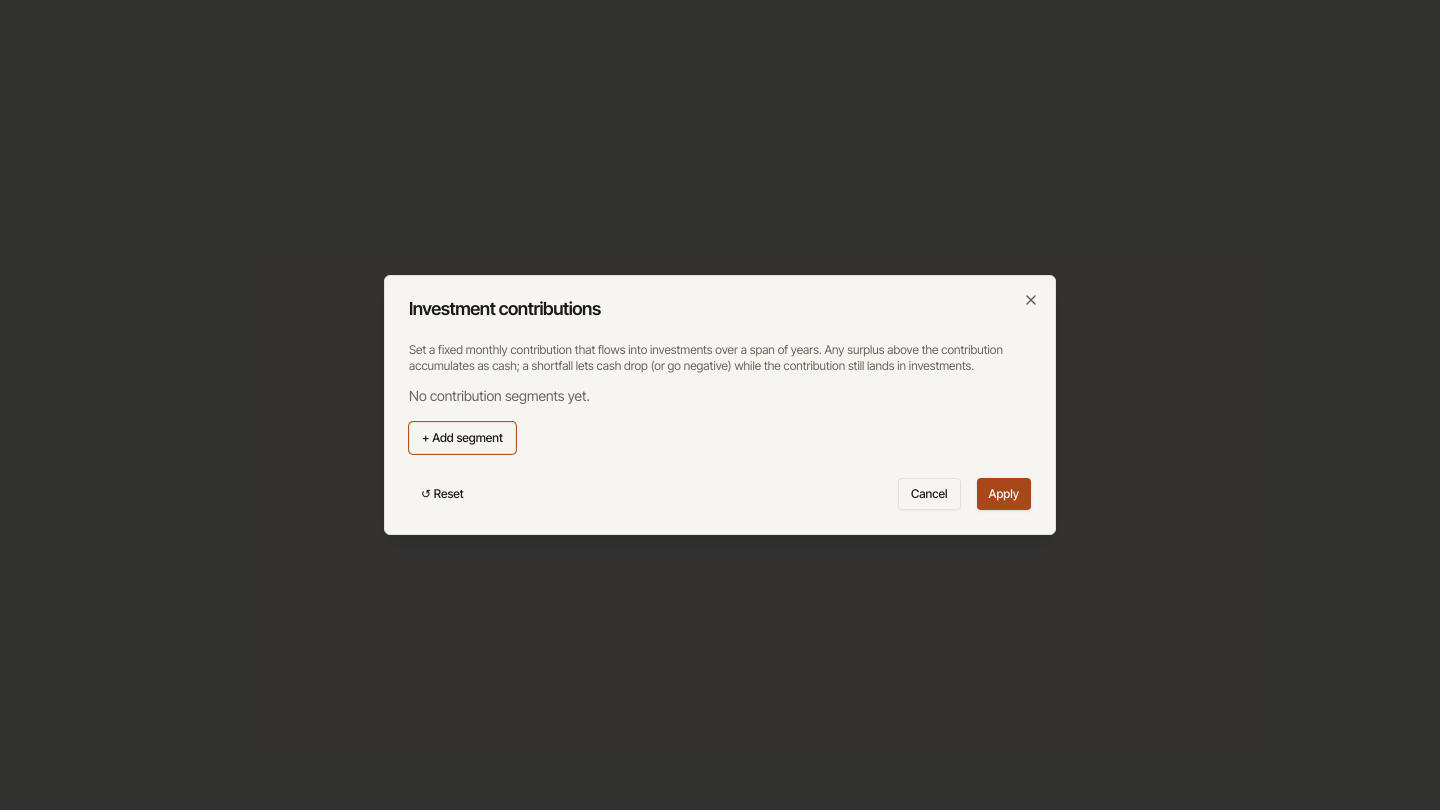
Test: ContributionsPopover — allocation UI › override checkbox reveals per-account percent inputs excluding cash accounts
Click the button "+ Add segment": {"x": 462, "y": 438} [409, 422, 516, 454]
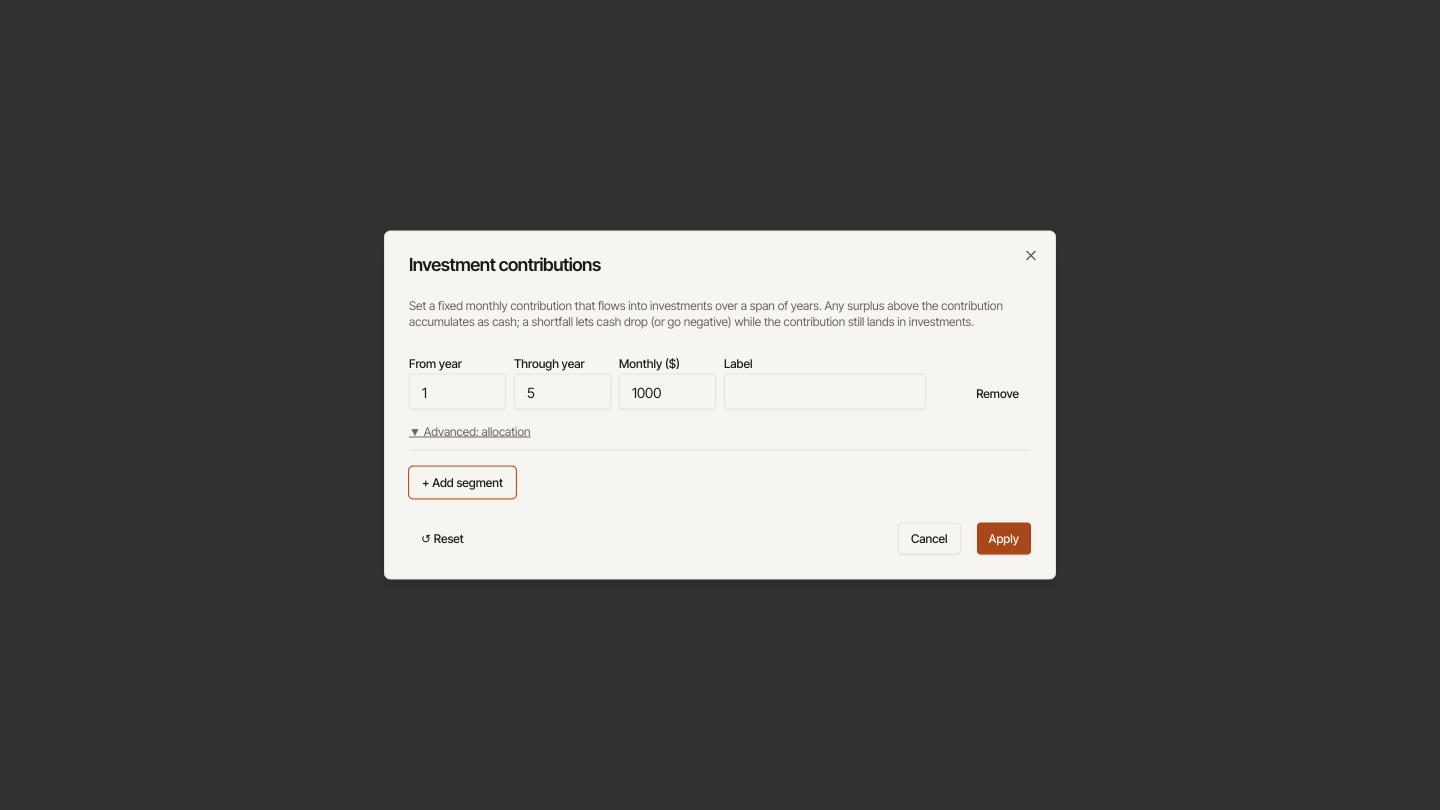
Click the button "▼ Advanced: allocation": {"x": 470, "y": 432} [409, 424, 530, 440]
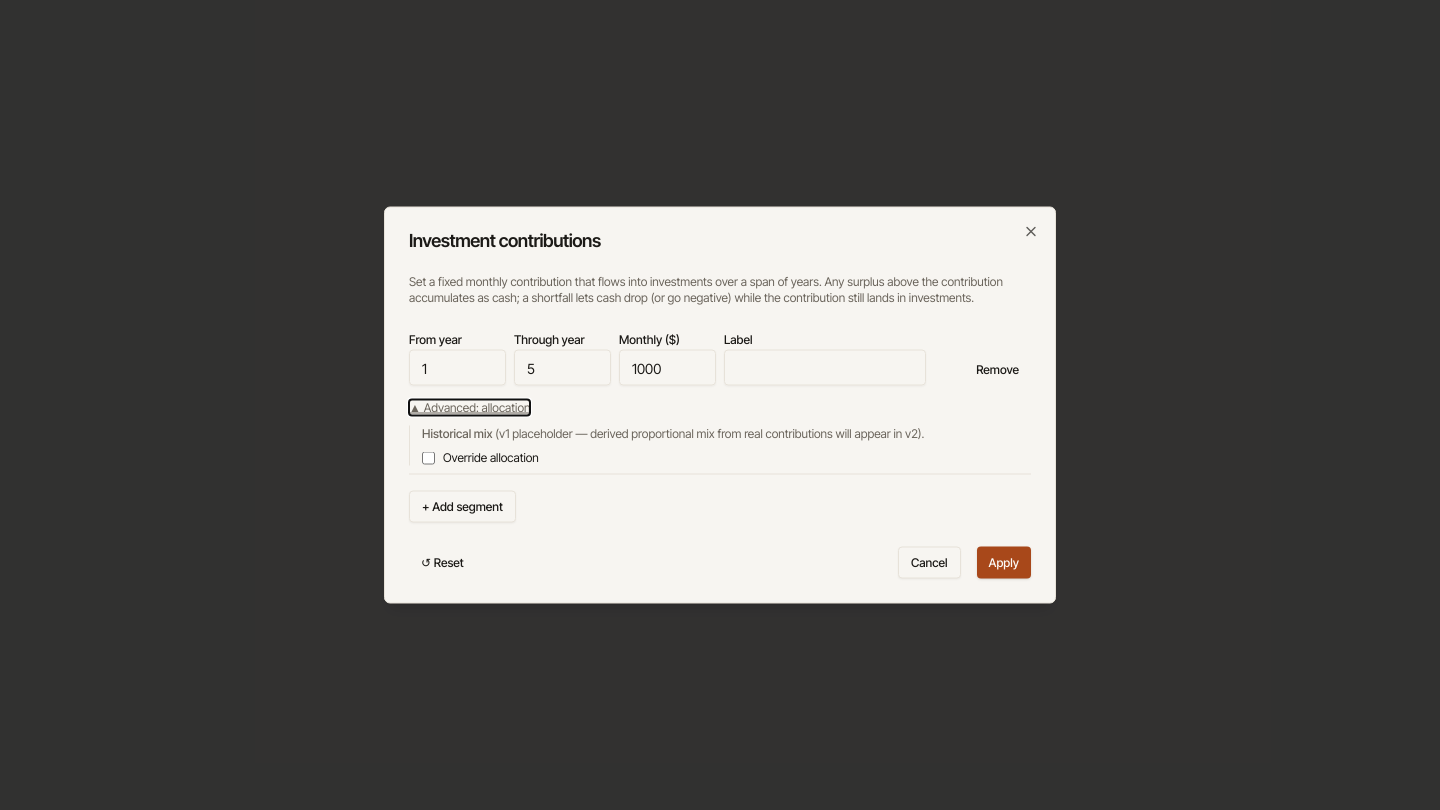
Click the checkbox labelled "Override allocation": {"x": 428, "y": 458} [422, 451, 435, 464]
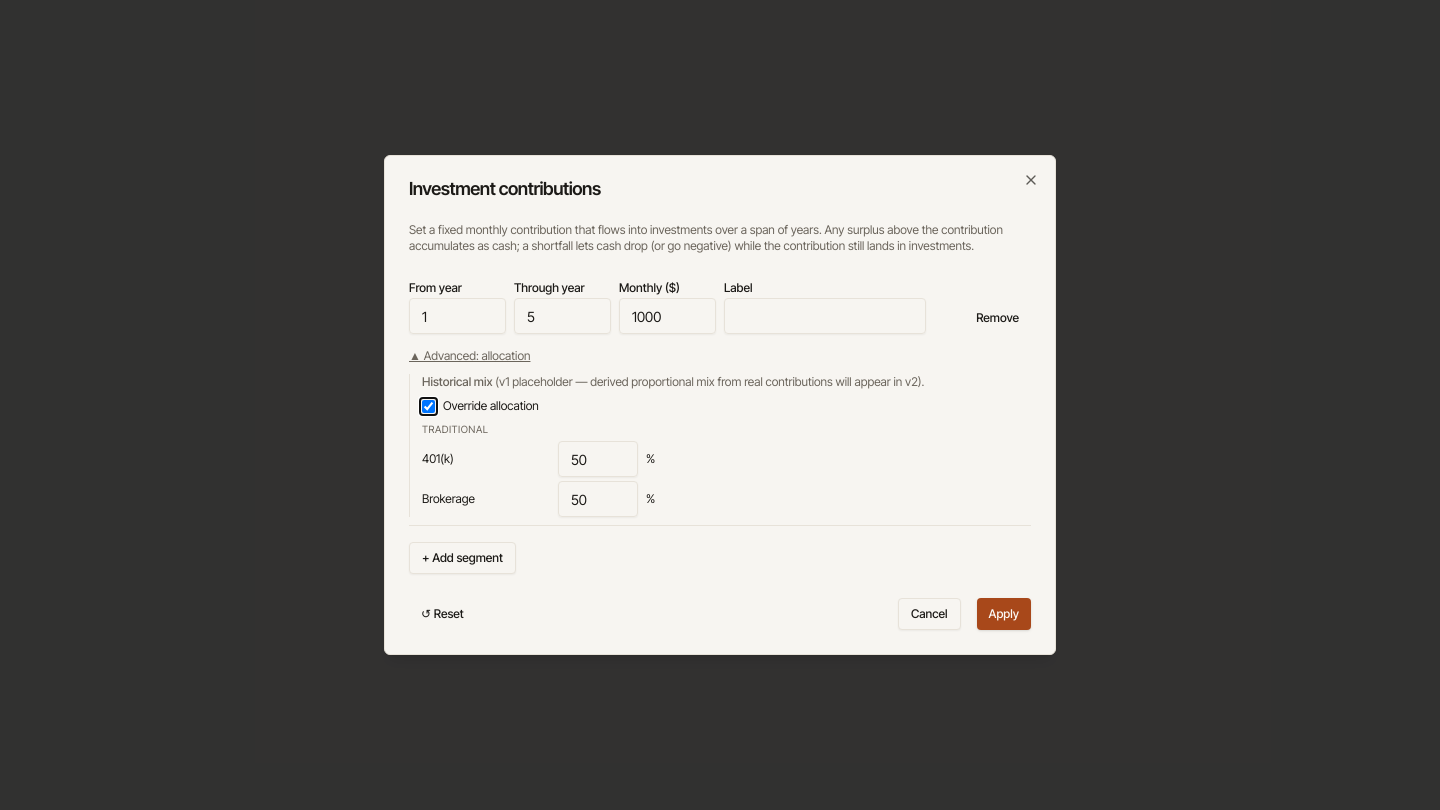
Now the number field labelled "401(k)" is shown, box [558, 441, 638, 477]
Now the number field labelled "Brokerage" is shown, box [558, 481, 638, 517]
